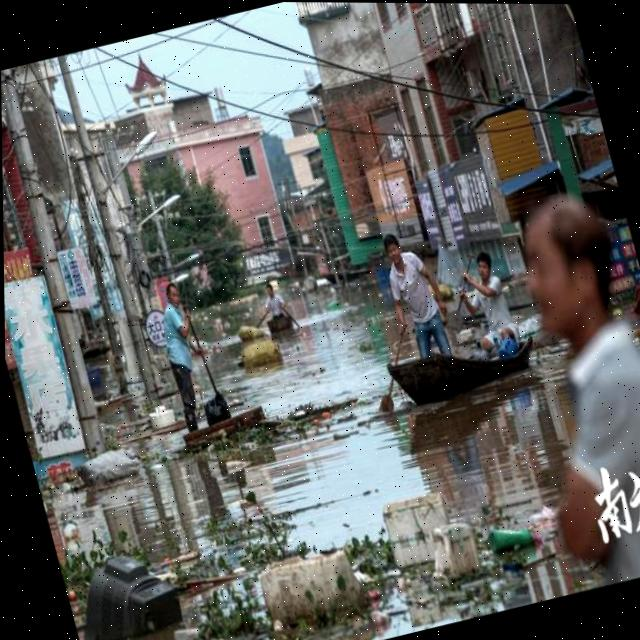civilian: (478, 165, 640, 590), (373, 219, 466, 373), (144, 278, 220, 431), (459, 243, 524, 353), (254, 278, 297, 328)
